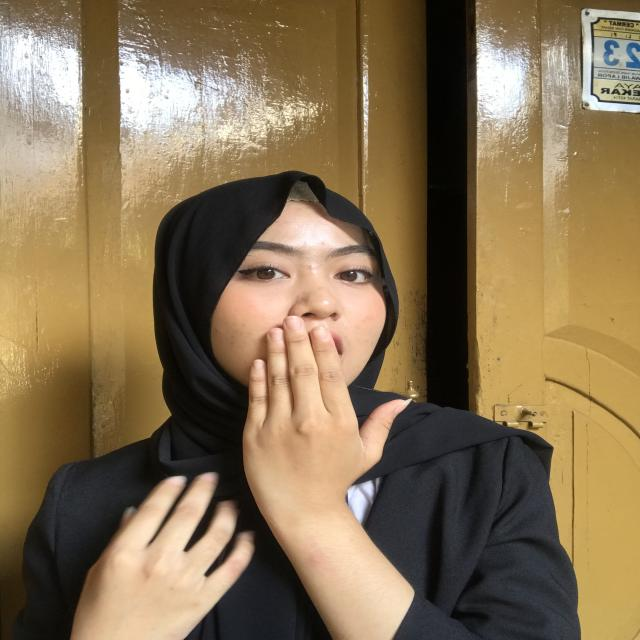ngantuk: (202, 313, 408, 582)
